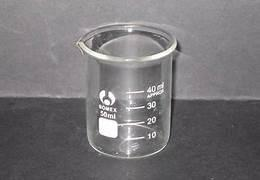Beaker: (72, 21, 179, 160)
